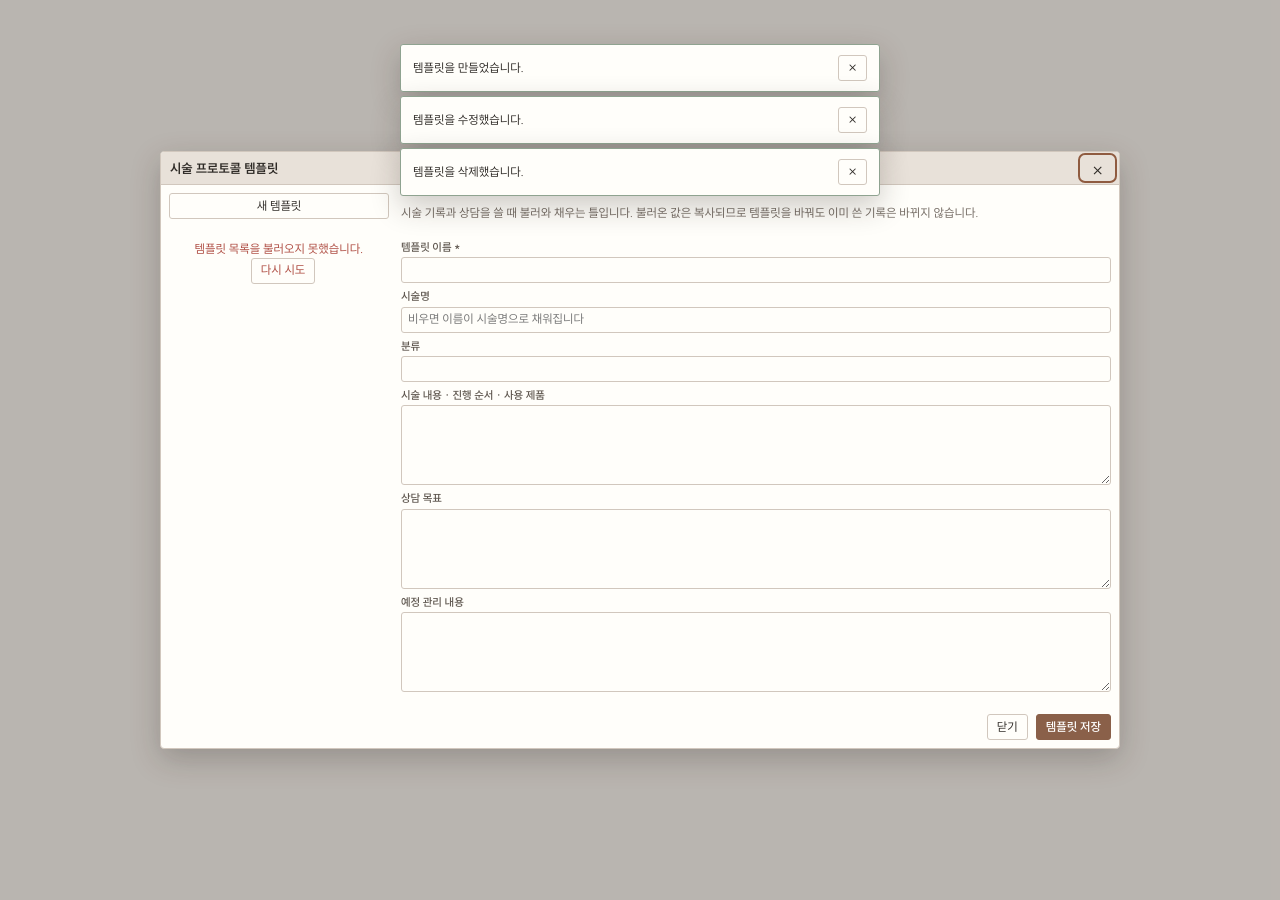
TemplateManagerDialog (TRT-12) › 목록을 못 불러오면 다시 시도할 수 있다
Expected: the text "템플릿 목록을 불러오지 못했습니다." is shown, left=195, top=241, right=363, bottom=256
Click the button "다시 시도": click(283, 271) left=251, top=258, right=315, bottom=284
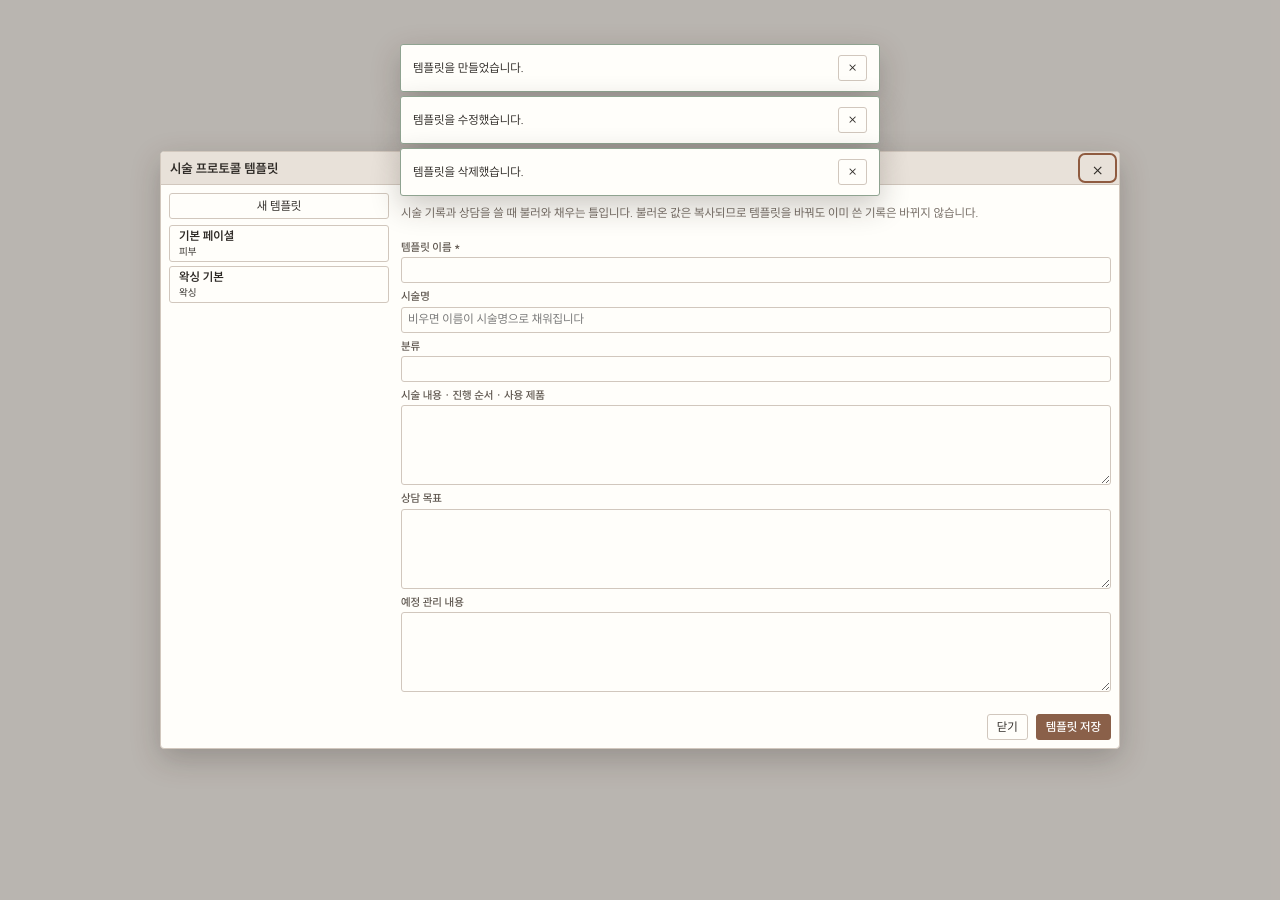
Result: the button "기본 페이셜 피부" is shown at left=169, top=225, right=389, bottom=262
